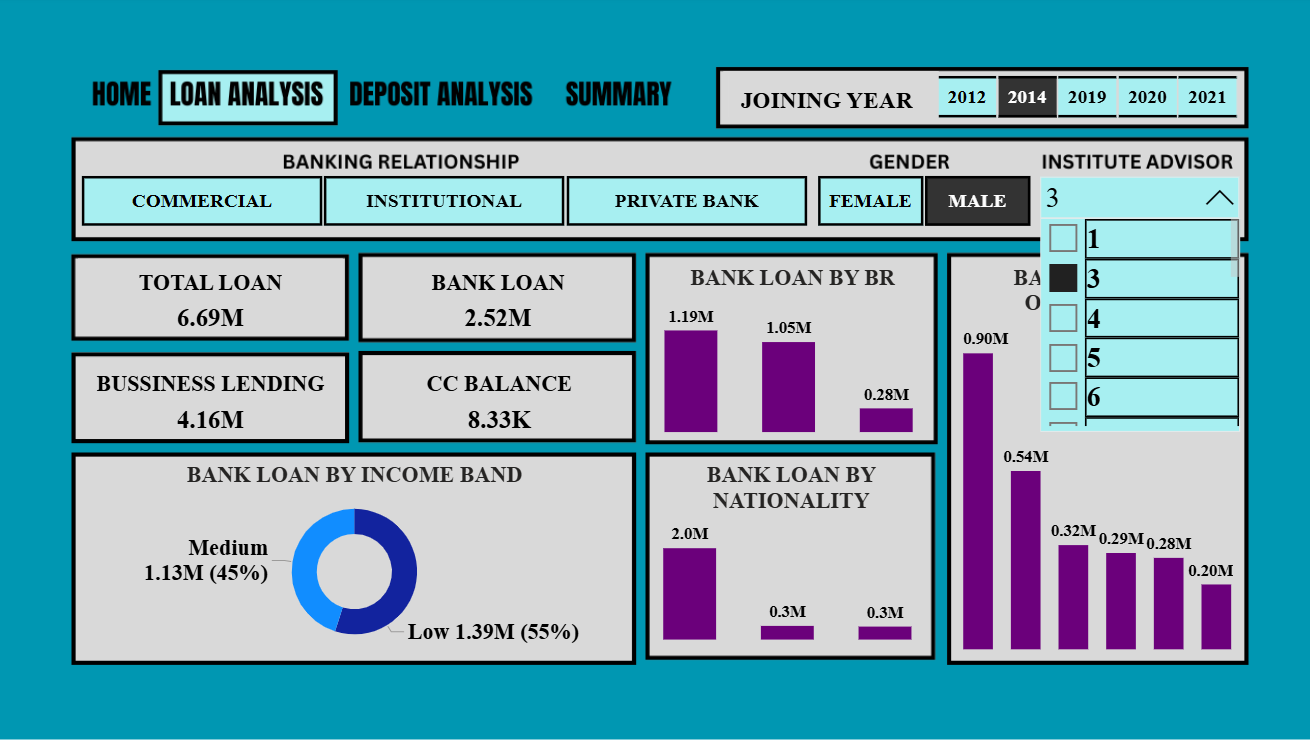

The page's visual inventory and layout, read from the dashboard file:
{"tool":"powerbi","page":{"name":"LOAN ANALYSIS","canvas":[1280,720],"ordinal":1},"visuals":[{"type":"slicer","fields":{"Values":["banking_data.Year of Joining"]},"box":[884.7,72.2,336.1,50],"z":0},{"type":"cardVisual","fields":{"Data":["Sum(banking_data.Year of Joining)"]},"box":[701.4,72.2,208.3,50],"z":1000},{"type":"cardVisual","fields":{"Data":["banking_data.Total Loan"]},"box":[73.6,248.6,265.3,80.6],"z":2000},{"type":"cardVisual","fields":{"Data":["Sum(banking_data.Bank Loans)"]},"box":[351.4,248.6,265.3,80.6],"z":3000},{"type":"cardVisual","fields":{"Data":["Sum(banking_data.Business Lending)"]},"box":[73.6,345.8,265.3,80.6],"z":4000},{"type":"cardVisual","fields":{"Data":["Sum(banking_data.Credit Card Balance)"]},"box":[352.8,345.8,265.3,80.6],"z":5000},{"type":"donutChart","title":"BANK LOAN BY INCOME BAND","fields":{"Category":["banking_data.Income Band"],"Y":["Sum(banking_data.Bank Loans)"]},"box":[73.6,450,543.1,187.5],"z":6000},{"type":"actionButton","box":[84.7,72.2,75,40.3],"z":7000},{"type":"actionButton","box":[540.7,72.7,131.7,39.8],"z":8000},{"type":"actionButton","box":[338.9,72.7,190.7,39.8],"z":9000},{"type":"clusteredColumnChart","title":"BANK LOAN BY BR","fields":{"Category":["banking_data.BRId"],"Y":["Sum(banking_data.Bank Loans)"]},"box":[639.4,259.4,257,167.7],"z":10000},{"type":"clusteredColumnChart","title":"BANK LOAN BY NATIONALITY","fields":{"Category":["banking_data.Nationality"],"Y":["Sum(banking_data.Bank Loans)"]},"box":[638.2,450,257,177.3],"z":11000},{"type":"clusteredColumnChart","title":"BANK LOAN BY OCCUPATION","fields":{"Y":["Sum(banking_data.Bank Loans)"],"Category":["banking_data.Occupation"]},"box":[927.6,259.3,270.3,377.4],"z":12000},{"type":"slicer","fields":{"Values":["banking_data.BRId"]},"box":[57.6,168.8,747.9,57.6],"z":13000},{"type":"slicer","fields":{"Values":["banking_data.GenderId"]},"box":[768.4,168.8,252.5,57.6],"z":14000},{"type":"slicer","fields":{"Values":["banking_data.IAId"]},"box":[996.2,164.7,212.7,64.5],"z":15000}]}

Visuals, with their boxes in screenshot pixels (x1, y1, x2, y2), scaled from the page's 1280x720 canvas onto the 1310x741 screenshot:
slicer - banking_data.Year of Joining: (905, 74, 1249, 126)
cardVisual - Sum(banking_data.Year of Joining): (718, 74, 931, 126)
cardVisual - banking_data.Total Loan: (75, 256, 347, 339)
cardVisual - Sum(banking_data.Bank Loans): (360, 256, 631, 339)
cardVisual - Sum(banking_data.Business Lending): (75, 356, 347, 439)
cardVisual - Sum(banking_data.Credit Card Balance): (361, 356, 633, 439)
"BANK LOAN BY INCOME BAND" donutChart: (75, 463, 631, 656)
actionButton: (87, 74, 163, 116)
actionButton: (553, 75, 688, 116)
actionButton: (347, 75, 542, 116)
"BANK LOAN BY BR" clusteredColumnChart: (654, 267, 917, 440)
"BANK LOAN BY NATIONALITY" clusteredColumnChart: (653, 463, 916, 646)
"BANK LOAN BY OCCUPATION" clusteredColumnChart: (949, 267, 1226, 655)
slicer - banking_data.BRId: (59, 174, 824, 233)
slicer - banking_data.GenderId: (786, 174, 1045, 233)
slicer - banking_data.IAId: (1020, 170, 1237, 236)
